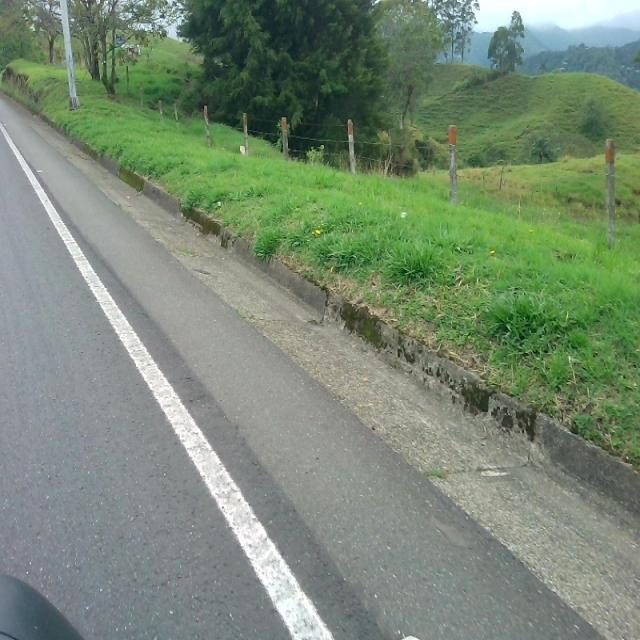DITCH: (1, 8, 638, 638), (1, 90, 638, 639), (2, 159, 637, 638)
